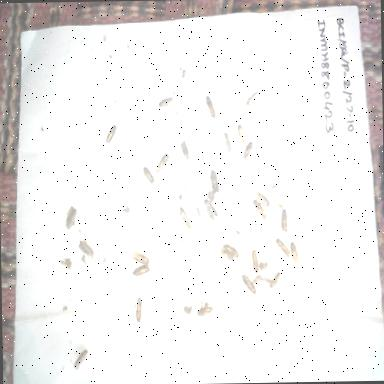pbw: (176, 204, 195, 234), (72, 344, 92, 372), (200, 197, 222, 222), (205, 166, 223, 194), (177, 136, 195, 164), (242, 86, 264, 108), (195, 301, 218, 322), (202, 93, 218, 123), (238, 272, 258, 296), (139, 163, 159, 186), (288, 238, 302, 270), (103, 120, 120, 146), (250, 198, 269, 221), (63, 202, 78, 231), (128, 248, 152, 266), (76, 239, 97, 259), (131, 262, 152, 282), (252, 188, 271, 210), (133, 294, 146, 326), (153, 150, 171, 173), (272, 235, 289, 258), (154, 94, 178, 110), (270, 268, 284, 294), (222, 240, 242, 258), (278, 205, 290, 234), (217, 247, 235, 265), (249, 247, 260, 276), (219, 131, 232, 155), (242, 139, 255, 163), (235, 121, 248, 145), (252, 274, 273, 288)
